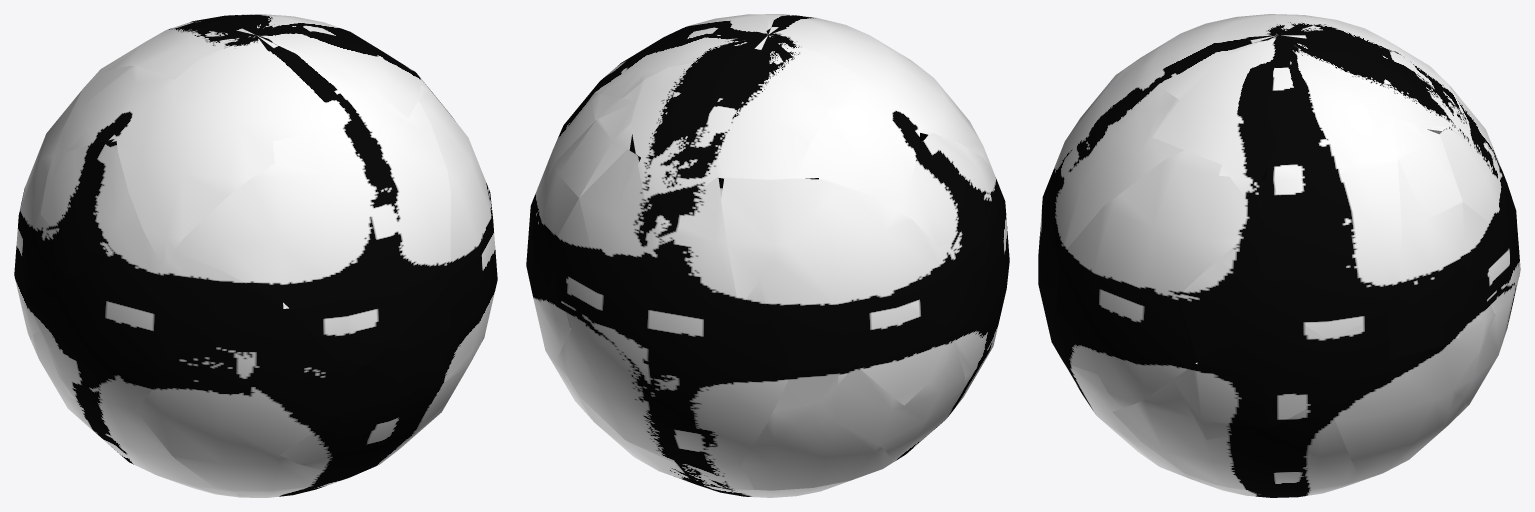
Rendered from Holdsphere_broken.FBX.
3 renders of one model, left to right at view 1: azimuth 30°, elevation 25°; view 2: azimuth 150°, elevation 25°; view 3: azimuth 270°, elevation 25°, orthographic.
Visible parts, largest first — view 1: Object003, Object001, Object002, Object004, Object005, Object006, Object011, Object016, Object027, Object015; view 2: Object013, Object016, Object027, Object001, Object015, Object002, Object010, Object011, Object008, Object009, Object007, Object014; view 3: Object009, Object006, Object008, Object011, Object007, Object003, Object010, Object027, Object013, Object001, Object005.
Part boxes in pixels (x1,y1,x2,y2): Object003: (173,97,450,378); Object001: (53,35,380,264); Object002: (27,142,216,492); Object004: (135,251,354,495); Object005: (231,283,473,497); Object006: (418,85,497,382); Object011: (249,15,430,118); Object016: (14,91,107,339); Object027: (94,14,290,79); Object015: (25,323,113,448); Object013: (550,149,792,490); Object016: (721,177,992,405); Object027: (623,35,856,229); Object001: (758,14,992,210); Object015: (741,351,964,490); Object002: (878,133,1009,462); Object010: (532,101,635,302); Object011: (595,14,768,98); Object008: (526,44,654,292); Object009: (532,134,632,417); Object007: (568,380,676,475); Object014: (687,480,849,497); Object009: (1173,259,1495,472); Object006: (1056,150,1263,408); Object008: (1219,118,1443,360); Object011: (1152,35,1380,197); Object007: (1112,379,1467,497); Object003: (1038,56,1183,268); Object010: (1388,117,1475,344); Object027: (1272,14,1491,158); Object013: (1439,89,1520,405); Object001: (1129,14,1341,112); Object005: (1038,263,1267,495).
Size of the model in its own units: 18.88 by 18.97 by 18.83.
